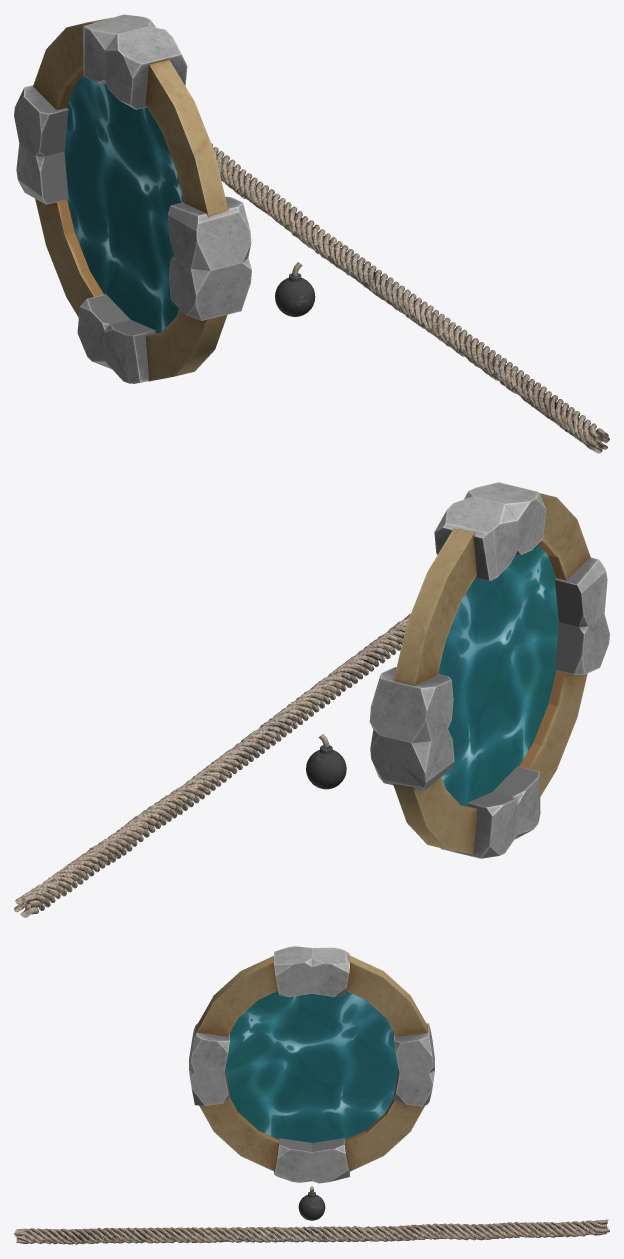
Rendered from item-tarik.fbx.
The picture shows the model from 3 angles, top to bottom: view 1: azimuth 30°, elevation 25°; view 2: azimuth 150°, elevation 25°; view 3: azimuth 270°, elevation 25°; orthographic projection. The views are drawn at different scales.
Visible parts, largest first — view 1: item; view 2: item; view 3: item.
Part boxes in pixels (x1,y1,x2,y2): item: (14,14,609,453); item: (14,482,609,917); item: (14,946,609,1244).
Bounding box in the file's own units: 0.0369 × 0.0418 × 0.1013.
Materials: 1 (1 with a texture image).
